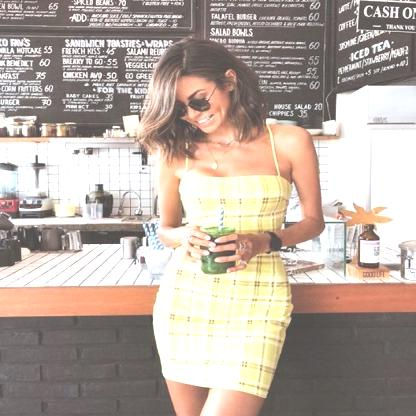jacket: (148, 118, 298, 401)
